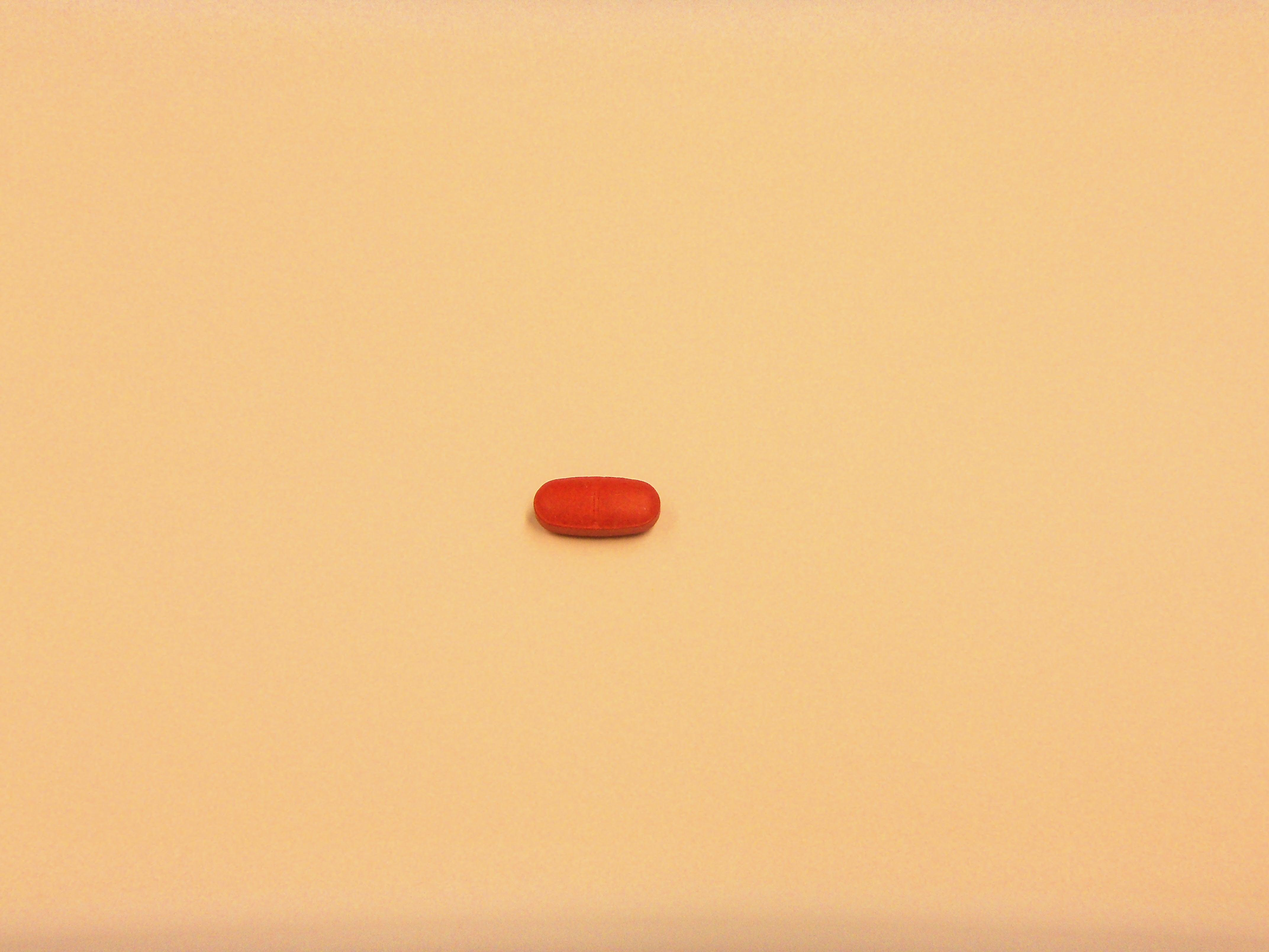Pill: (527, 466, 667, 548)
